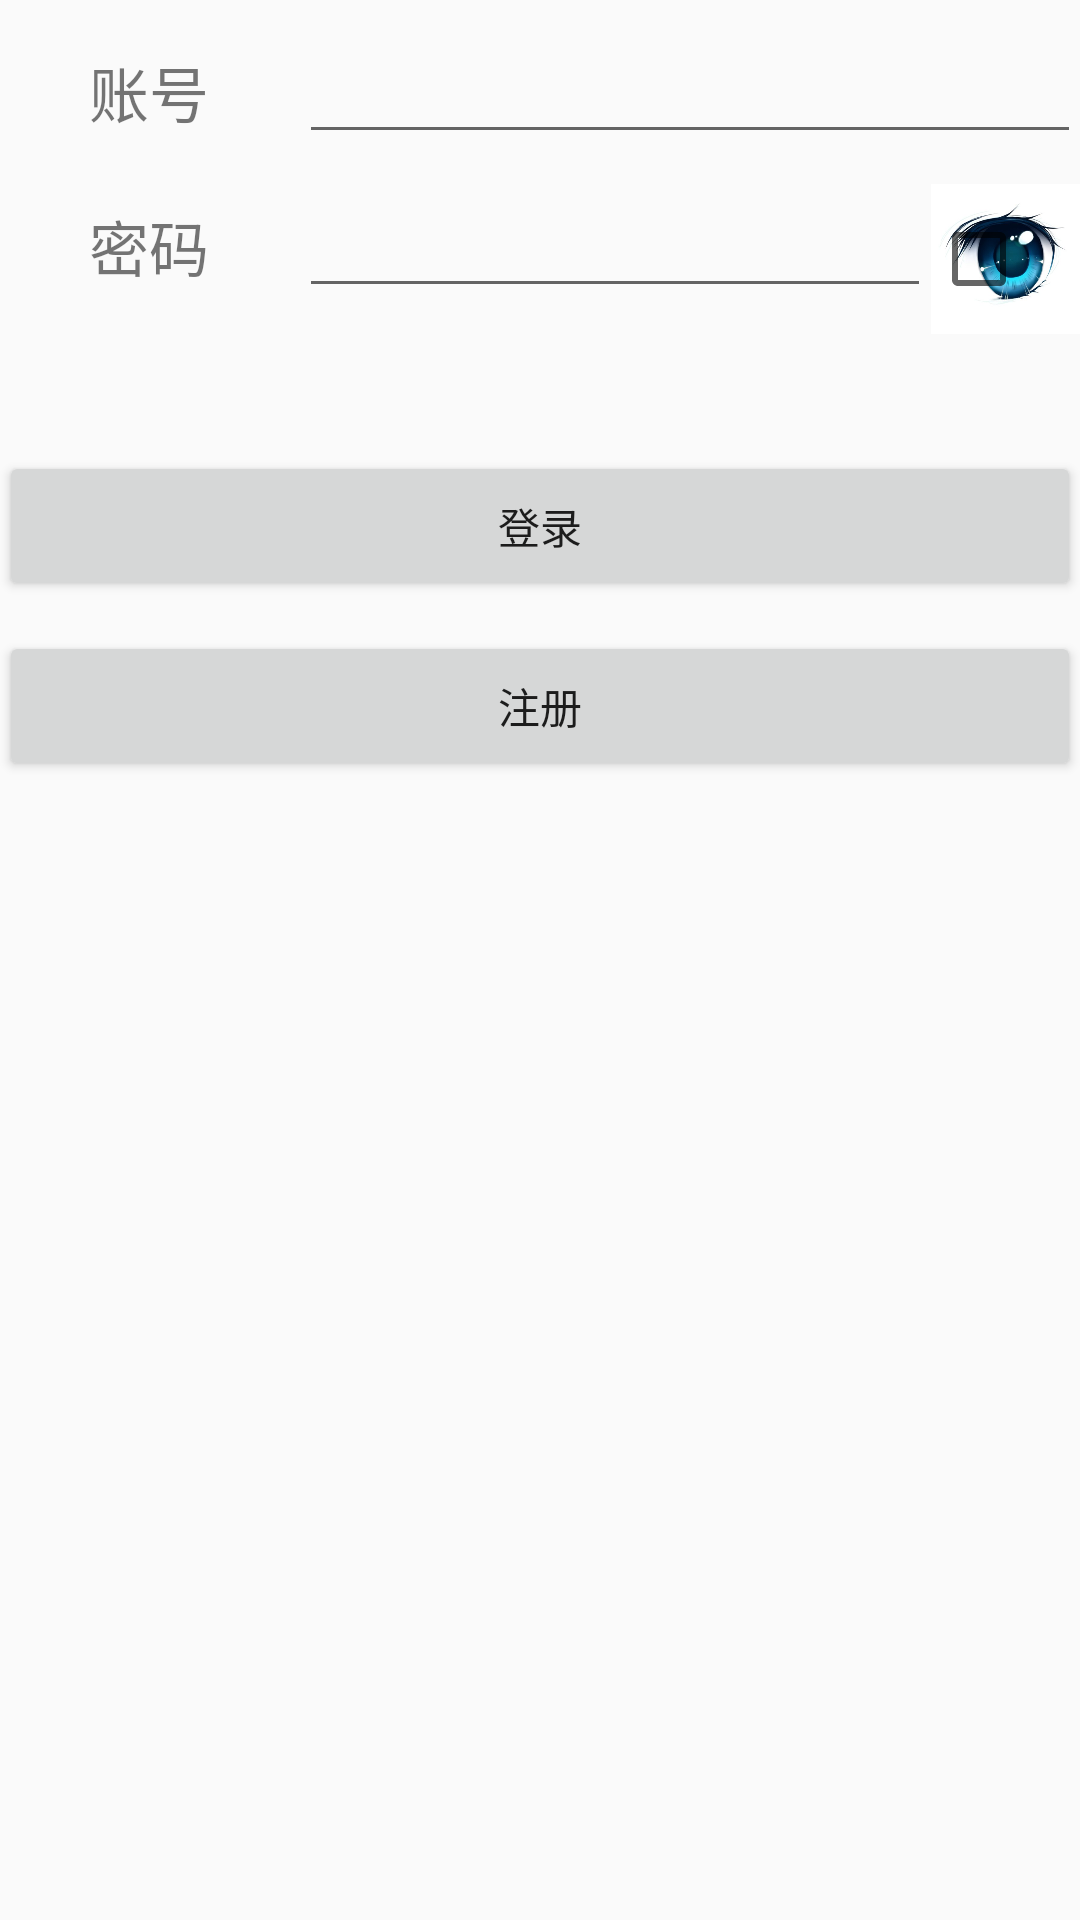

Icon bounding boxes for this 1080×1920 phone screenshot, format (x1=x1, y1=y1, x2=x2, y2=y2):
show password: (x1=946, y1=204, x2=1065, y2=300)
